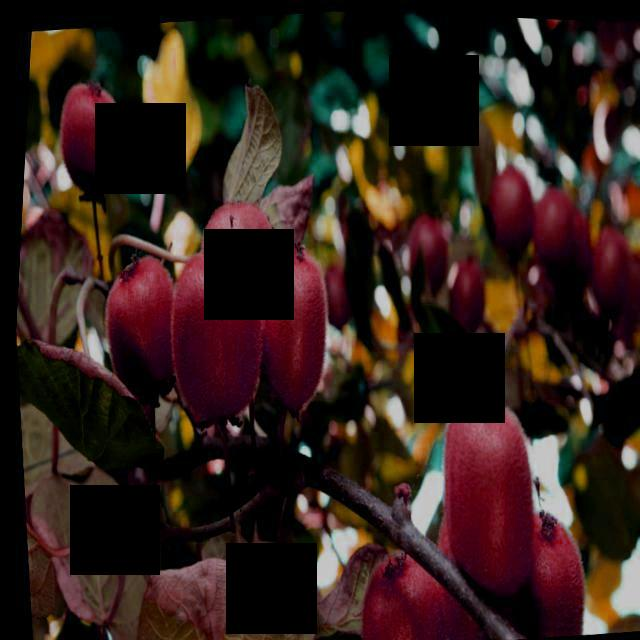kiwi: (424, 364, 550, 601), (154, 243, 275, 439), (186, 194, 290, 382), (245, 239, 338, 426), (91, 253, 186, 411), (485, 506, 596, 640), (45, 78, 128, 217), (352, 544, 455, 640)
